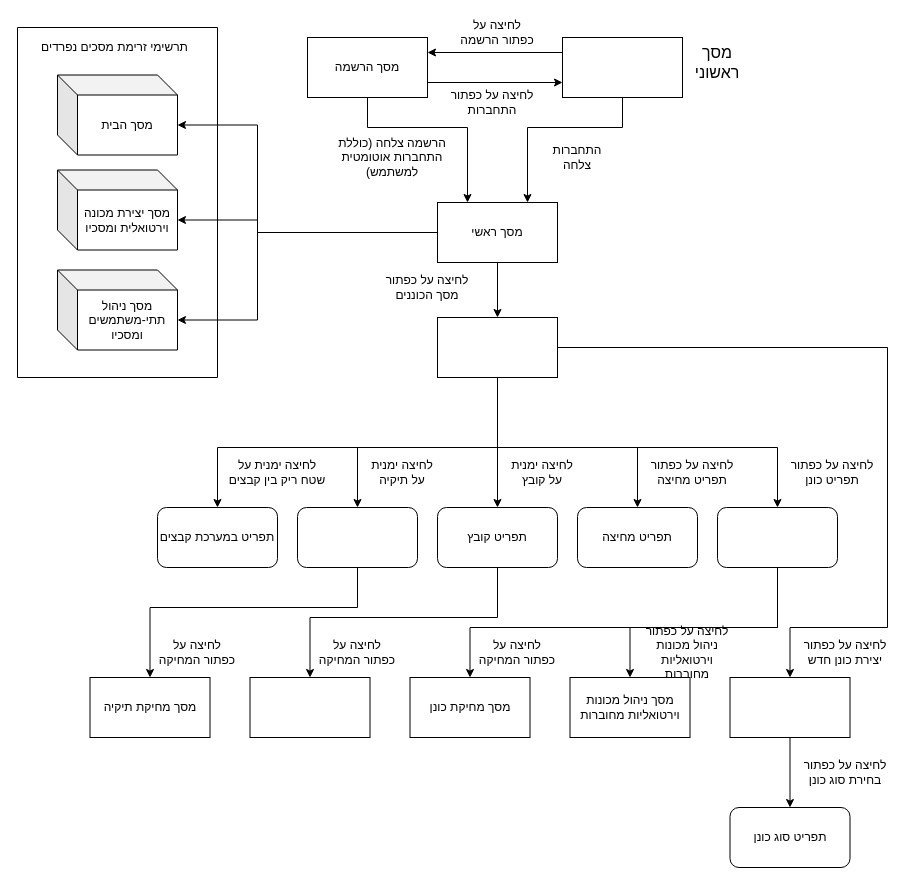
Some shapes in this 913 by 885 pixel diagram are drawn without their labels. Here are the shapes that lost their labels. From the top down, the centre of each, then its label:
(622,67): מסך התחברות
(497,347): מסך כוננים
(357,537): תפריט תיקיה
(777,537): תפריט כונן
(309,707): מסך מחיקת קובץ
(789,707): מסך יצירת כונן חדש
